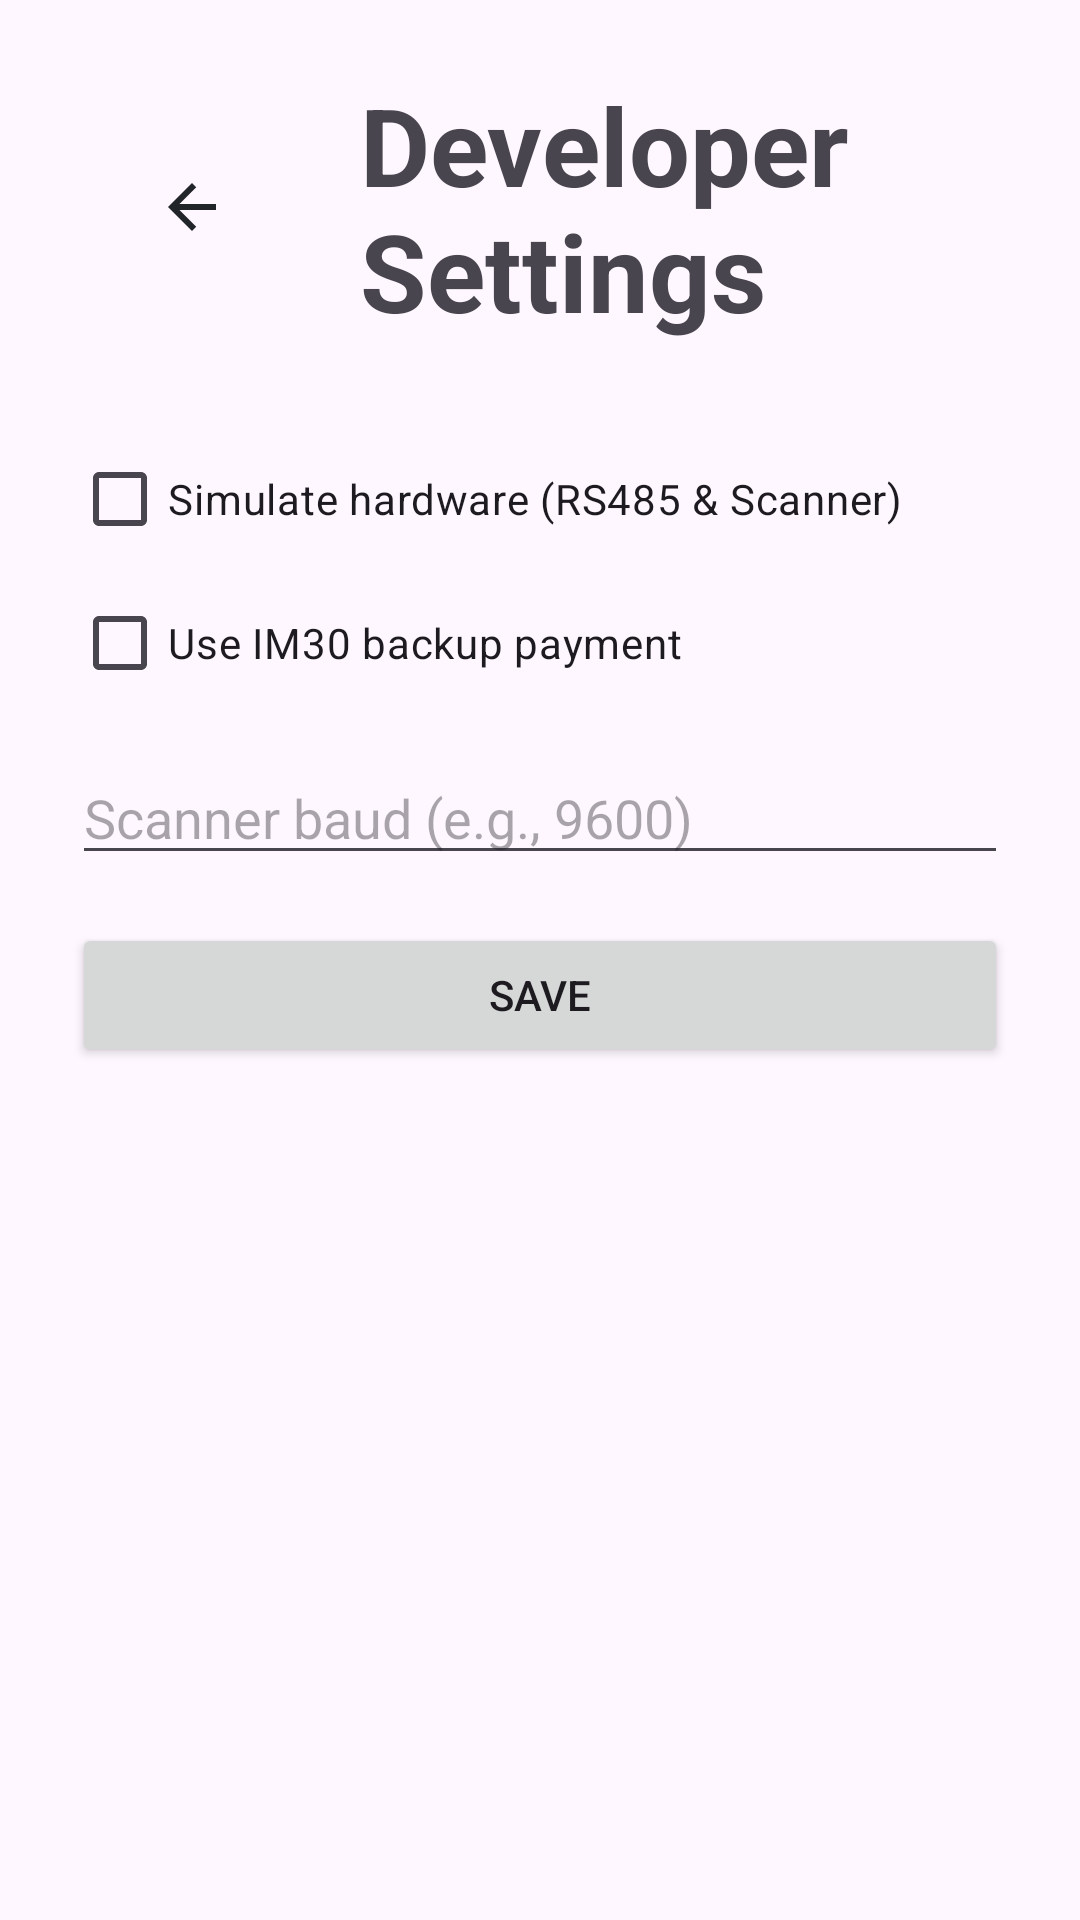

Icons on this 1080w x 1920h Android screen, each with the point to tap as [x,y]:
Back: [192,207]
